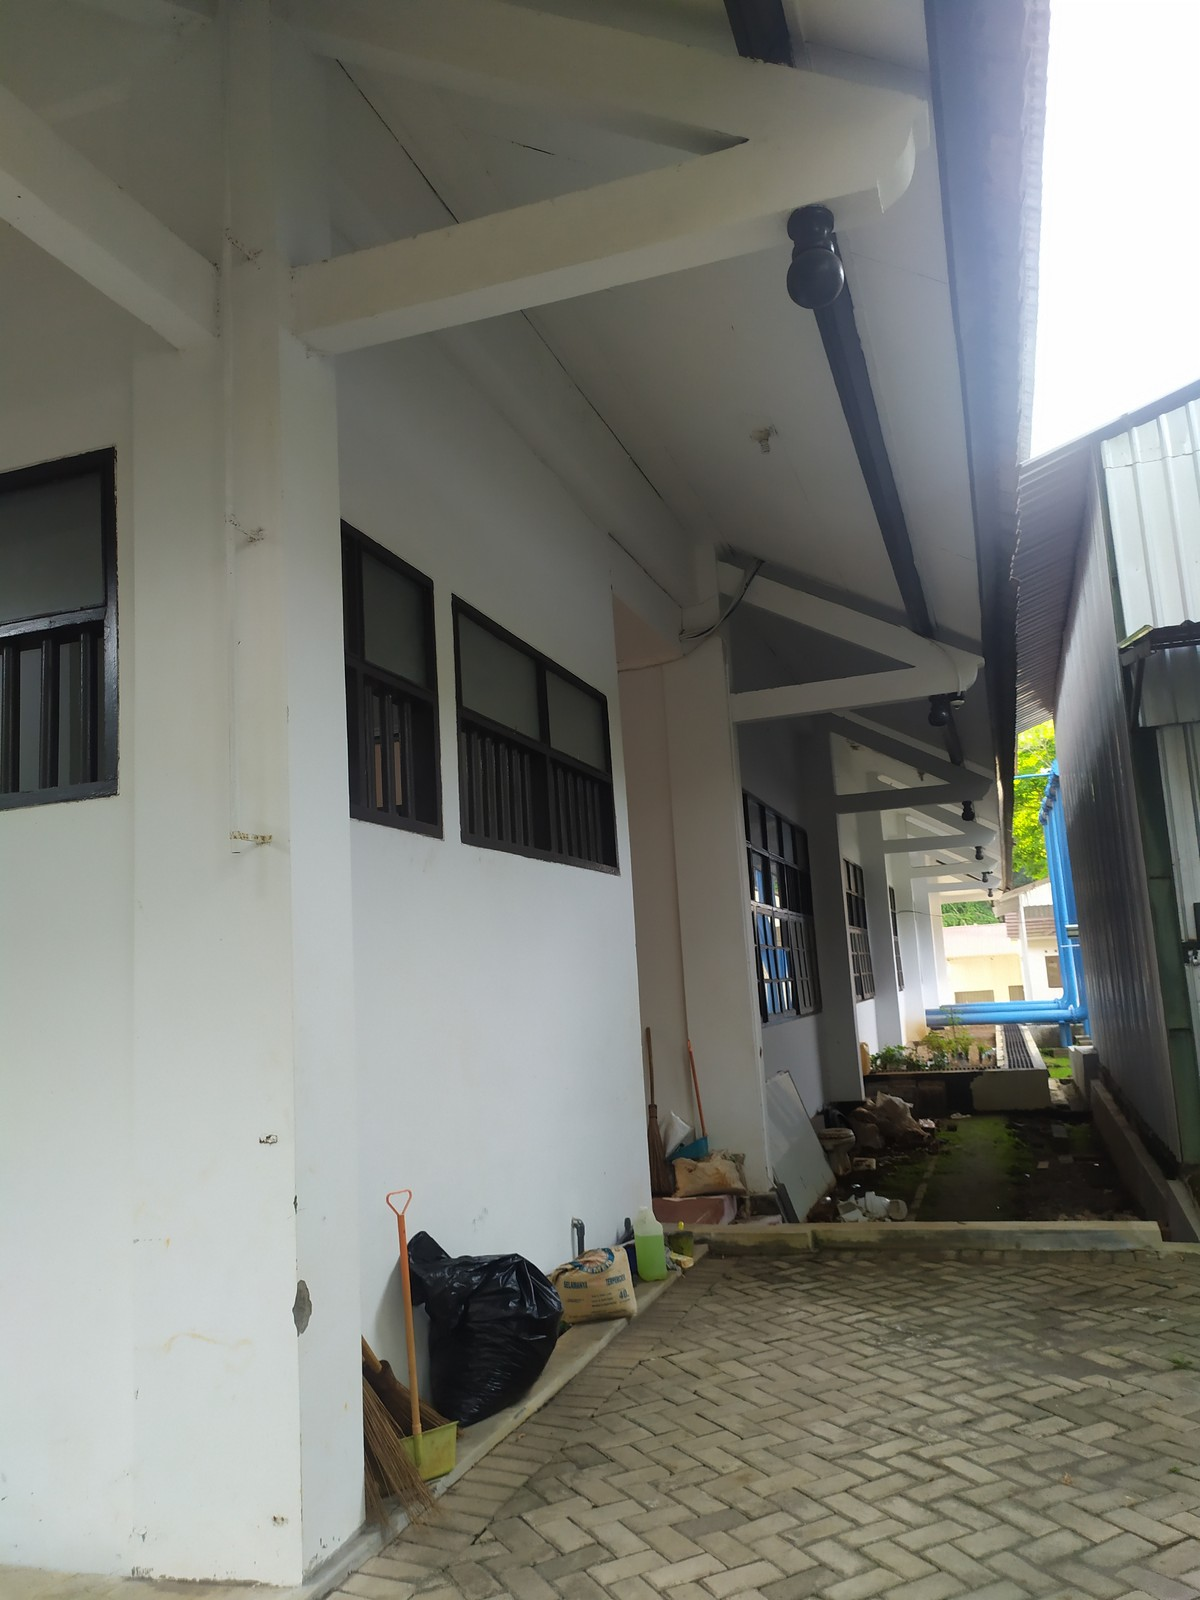concrete beam: (277, 169, 760, 365)
concrete column: (106, 88, 384, 1587), (653, 517, 787, 1203)
